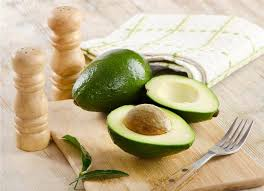aguacate: (69, 42, 152, 111)
